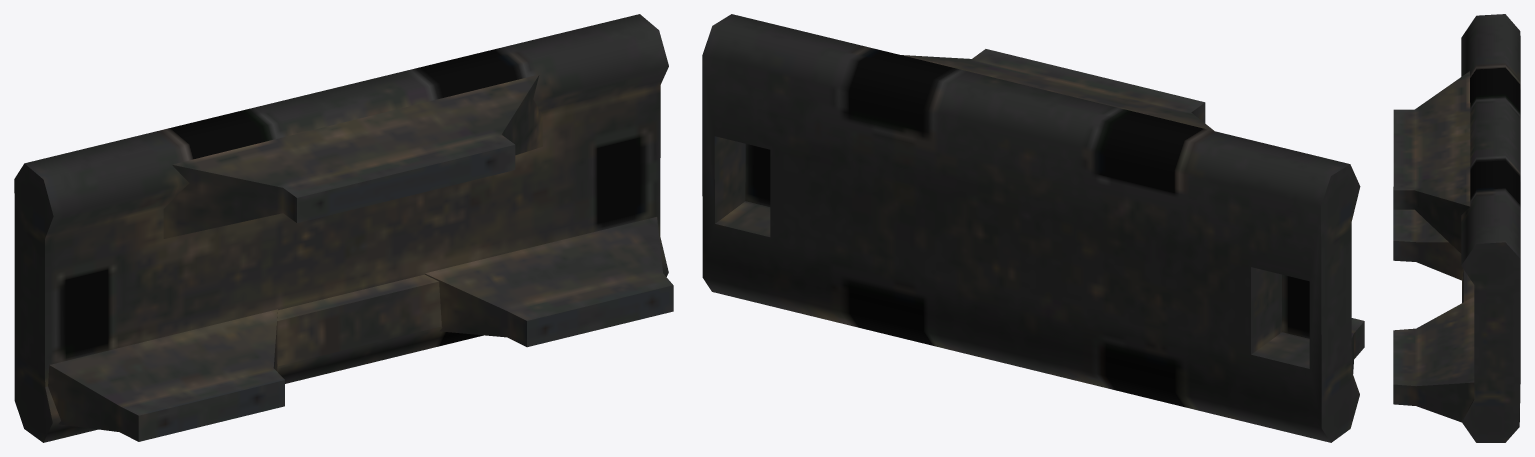
3 views of the same model, side by side, from view 1: azimuth 30°, elevation 25°; view 2: azimuth 150°, elevation 25°; view 3: azimuth 270°, elevation 25° (orthographic). The views are drawn at different scales.
Visible parts, largest first — view 1: set_0_group_0; view 2: set_0_group_0; view 3: set_0_group_0.
Part boxes in pixels (<box>): set_0_group_0: <box>14,14,673,442</box>; set_0_group_0: <box>702,14,1364,442</box>; set_0_group_0: <box>1393,14,1520,442</box>.
Size of the model in its own units: 0.3848 by 0.1585 by 0.0908.
1 material, 1 textured.
